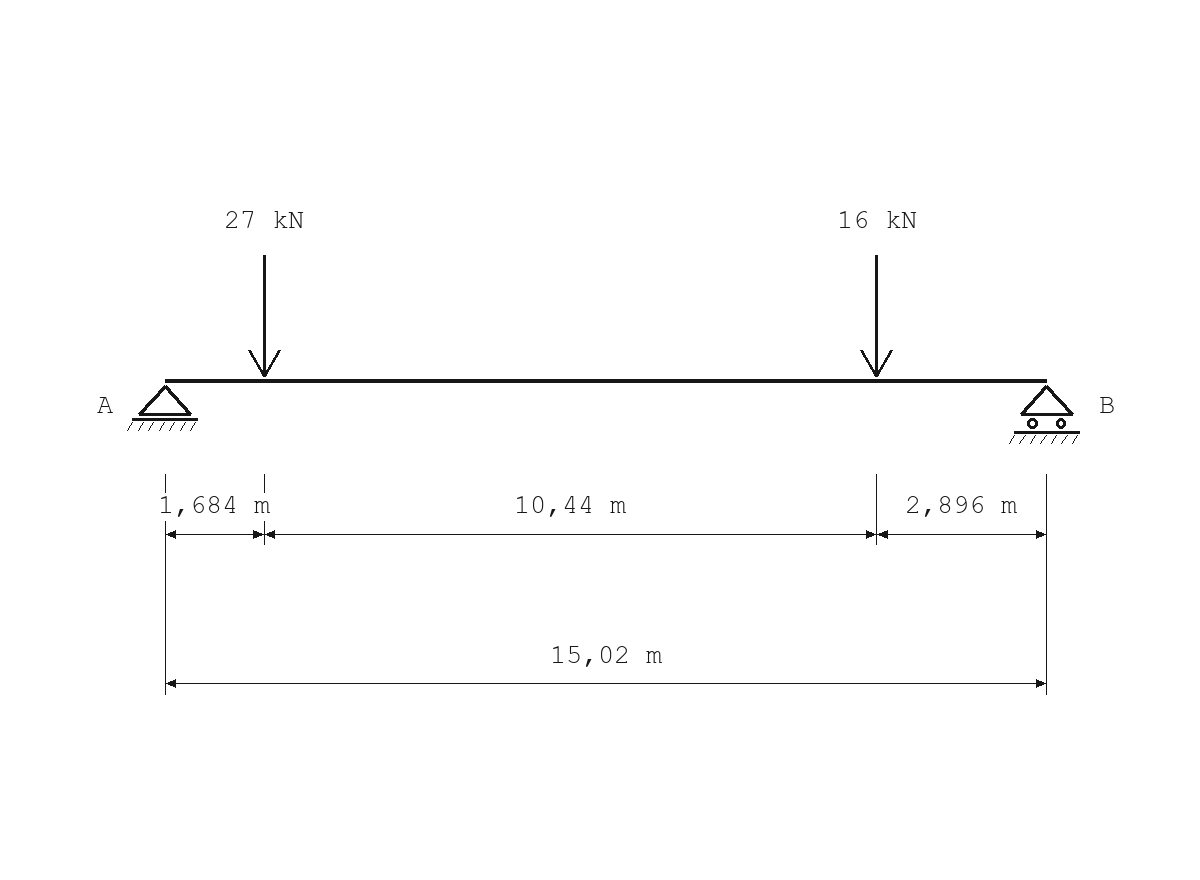pin_support: (127, 385, 198, 431)
point_load: (248, 255, 281, 377), (860, 255, 893, 377)
roller_support: (1009, 385, 1080, 444)
